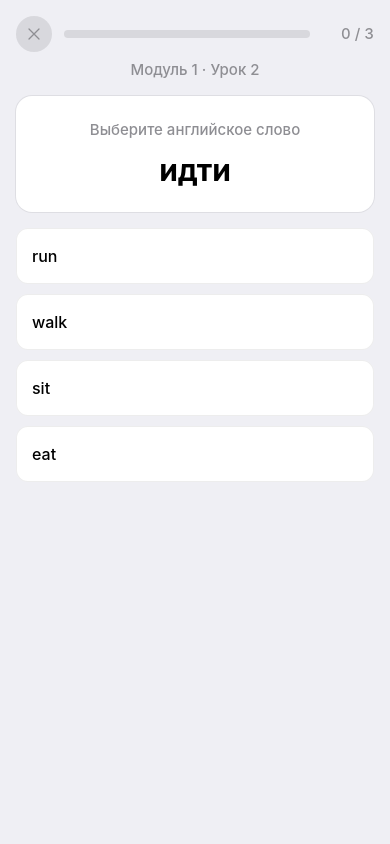
Test: TrainingView — exercises › four-choice exercises: the grade goes at the pick, the next card is held back › a wrong reverse pick is sent at once and stays on screen until "Next", which sends nothing more (N6)
Click the button with test id "option-0": x=45, y=256 [16, 228, 374, 284]
Wait 21000 ms
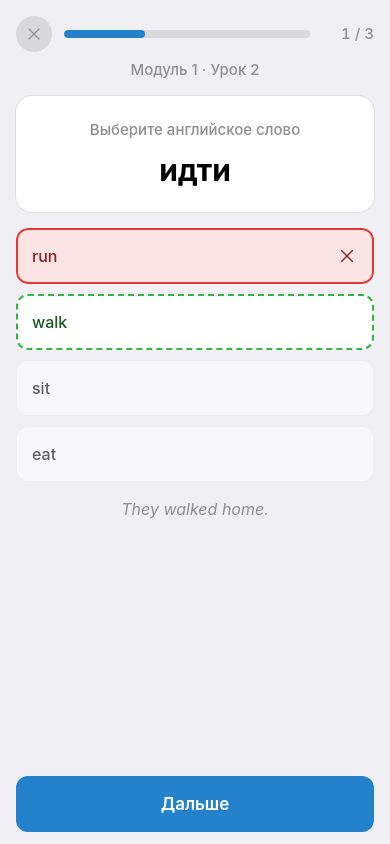
Expected: the button with test id "continue-btn" reads "Дальше"
Expected: the button with test id "continue-btn" is enabled
Click the button with test id "continue-btn": x=195, y=804 [16, 776, 374, 832]
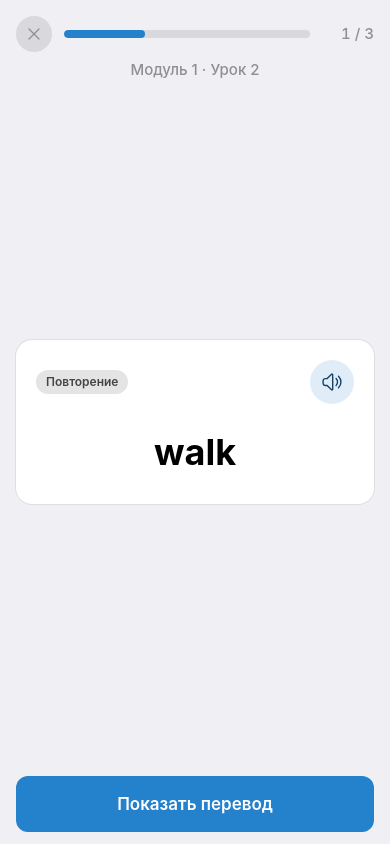
Expected: the element with test id "flashcard" is shown
